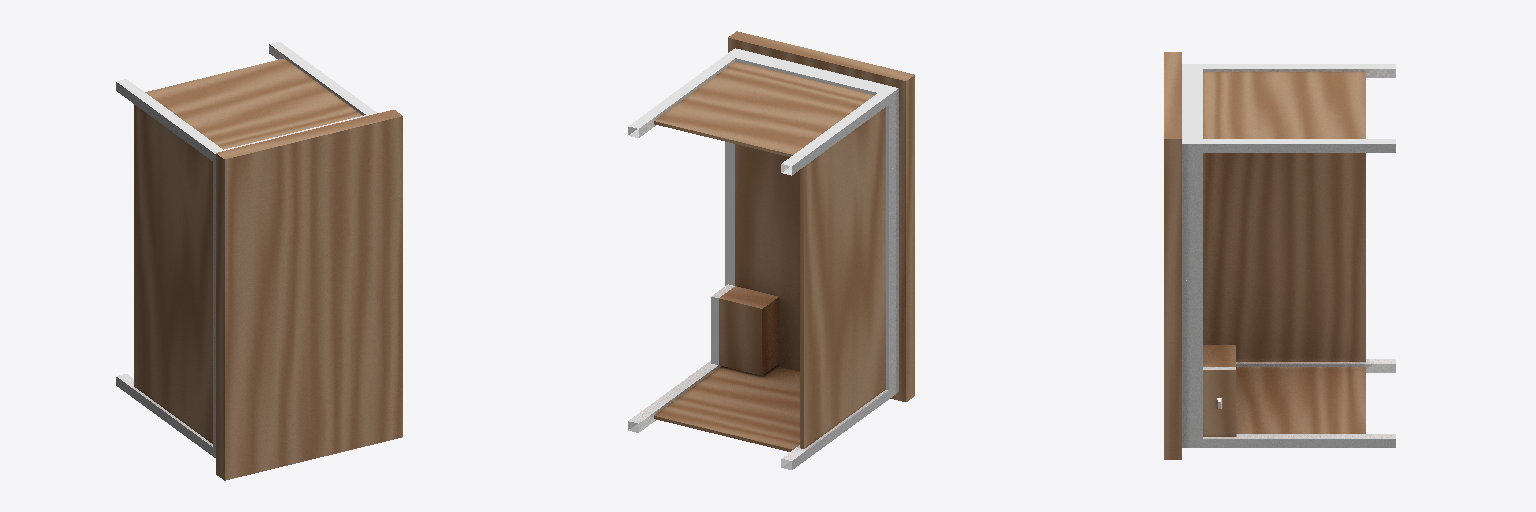
The picture shows the model from 3 angles: view 1: azimuth 30°, elevation 25°; view 2: azimuth 150°, elevation 25°; view 3: azimuth 270°, elevation 25°; orthographic projection.
Parts seen in each view (by area): view 1: Desk_Desk_Cube; view 2: Desk_Desk_Cube; view 3: Desk_Desk_Cube.
Part boxes in pixels (bbox=[...]): Desk_Desk_Cube: bbox=[116, 42, 402, 480]; Desk_Desk_Cube: bbox=[628, 31, 914, 469]; Desk_Desk_Cube: bbox=[1164, 52, 1395, 459].
Bounding box in the file's own units: 0.4906 × 0.8437 × 0.552.
1 materials, 1 textured.